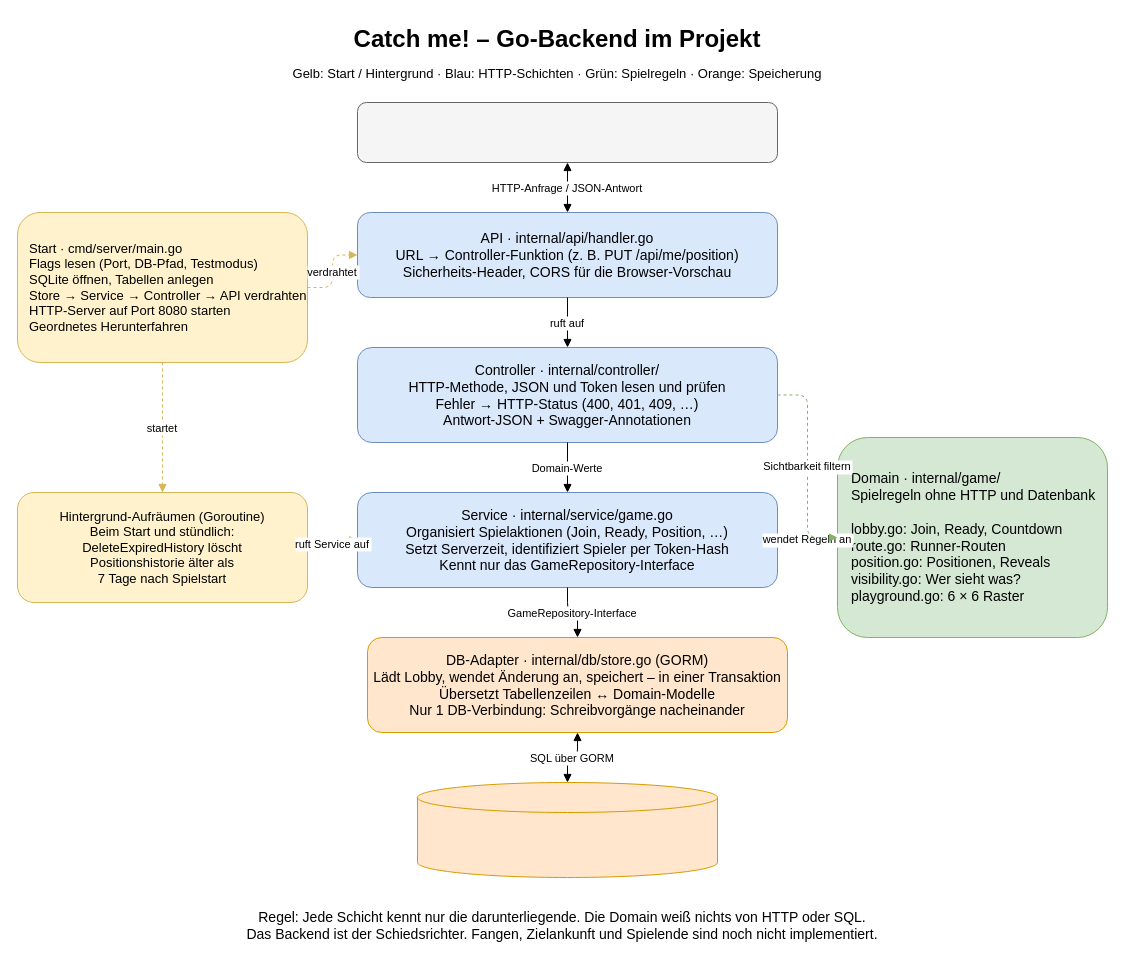
The diagram is 1125 pixels wide and 974 high, and some of its shapes have lost their labels. Here are the shapes that lost their labels. From the top down, the centre of each, then its label:
point 567,132: React-Native-App api/client.ts sendet HTTP-Anfragen mit JSON
point 567,830: SQLite-Datei (catch-me.sqlite) games · players · position_history
